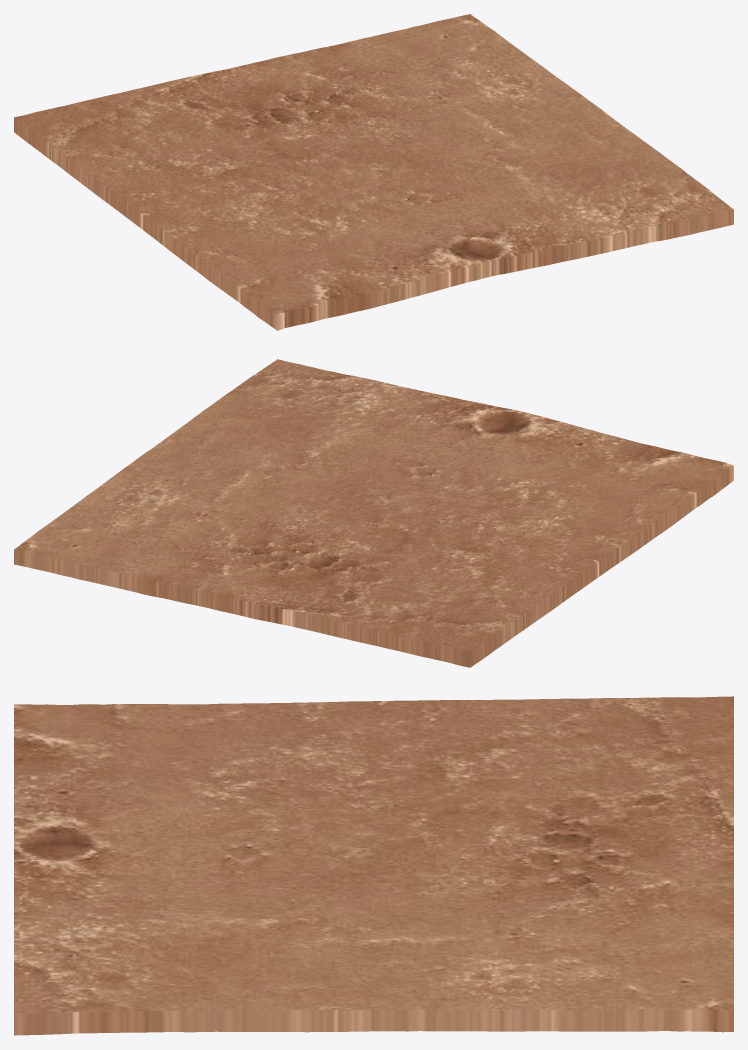
The picture shows the model from 3 angles, top to bottom: view 1: azimuth 30°, elevation 25°; view 2: azimuth 150°, elevation 25°; view 3: azimuth 270°, elevation 25°; orthographic projection. The views are drawn at different scales.
Parts seen in each view (by area): view 1: L5_16_4; view 2: L5_16_4; view 3: L5_16_4.
Part boxes in pixels (x1=…): L5_16_4: x1=14, y1=14, x2=733, y2=330; L5_16_4: x1=14, y1=359, x2=733, y2=667; L5_16_4: x1=14, y1=696, x2=733, y2=1035.
Bounding box in the file's own units: 450 × 24.14 × 450.
Materials: 1 (1 with a texture image).
